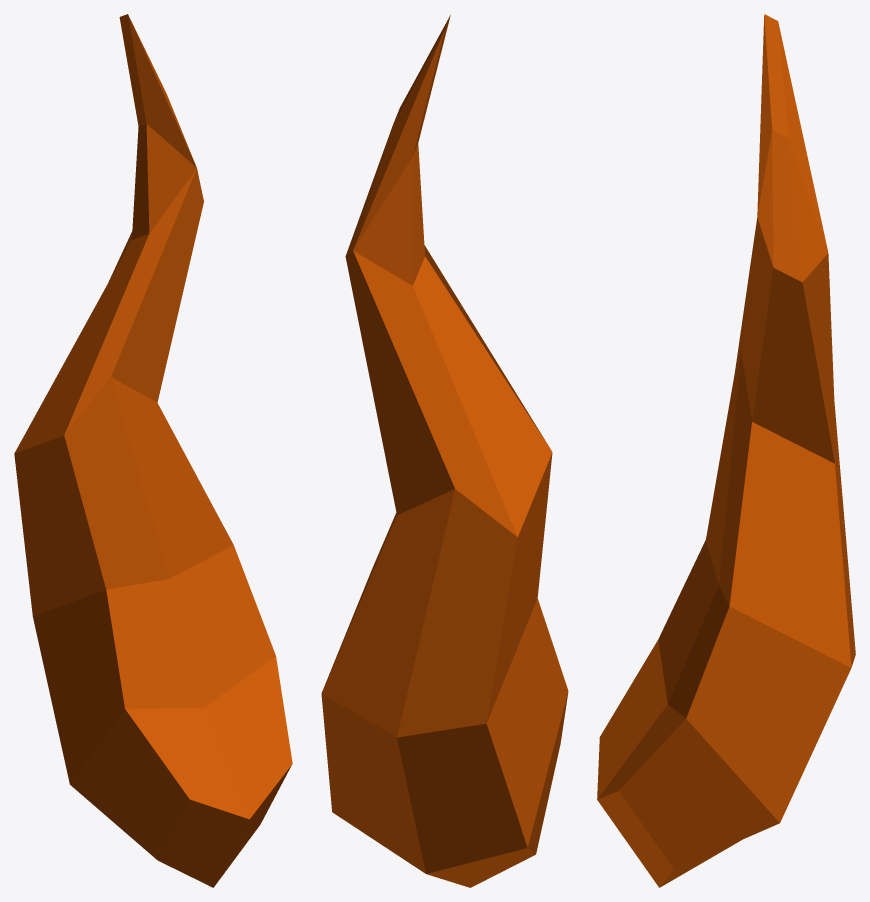
Rendered from Stalactite 2.fbx.
3 renders of one model, left to right at view 1: azimuth 30°, elevation 25°; view 2: azimuth 150°, elevation 25°; view 3: azimuth 270°, elevation 25°, orthographic. The views are drawn at different scales.
Parts seen in each view (by area): view 1: Fire_Smoke_Part_19; view 2: Fire_Smoke_Part_19; view 3: Fire_Smoke_Part_19.
Boxes of the visible parts, x1,y1,x2,y2 form: Fire_Smoke_Part_19: (14, 14, 292, 887); Fire_Smoke_Part_19: (321, 15, 568, 887); Fire_Smoke_Part_19: (597, 14, 855, 887).
Bounding box in the file's own units: 0.2753 × 1.13 × 0.3084.
